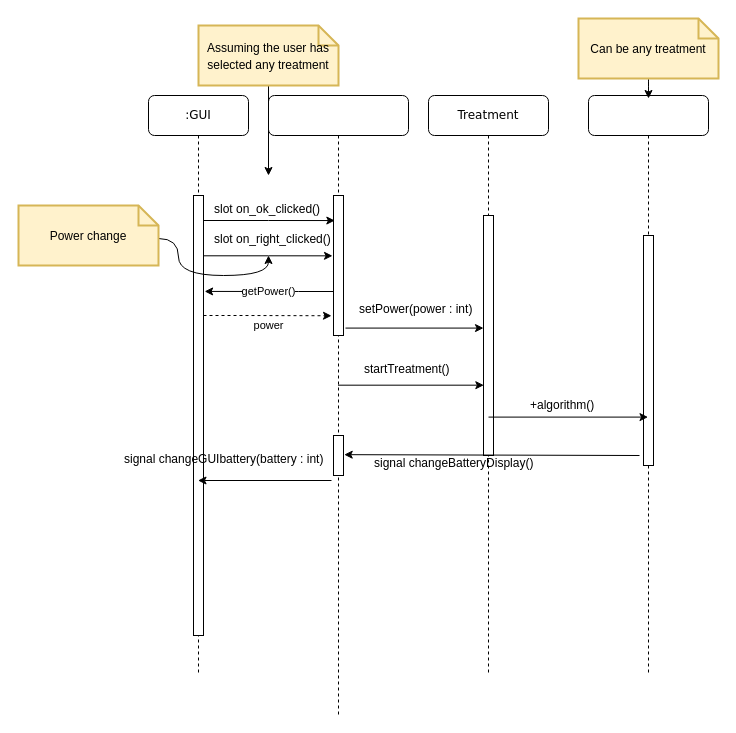
Some shapes in this 736 by 733 pixel diagram are drawn without their labels. Each missing label, with the box of its shape:
:AllergyTreatment: (588, 94, 708, 676)
:Controller: (268, 94, 408, 716)
